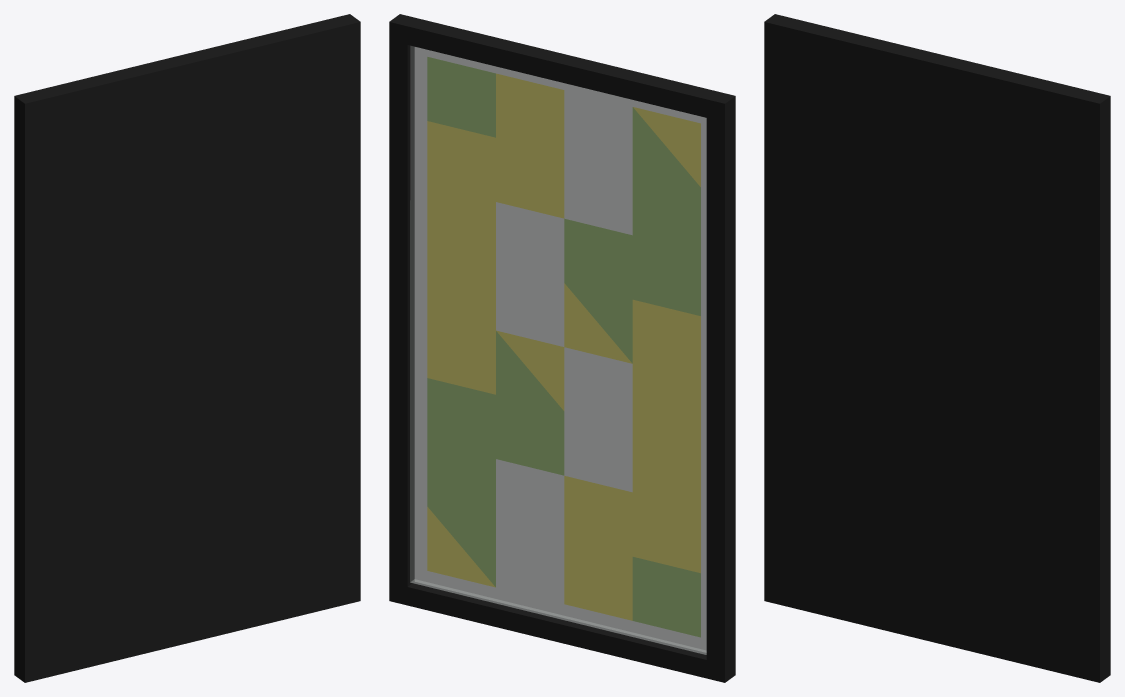
File: Painting2.fbx
3 views of the same model, side by side, from view 1: azimuth 30°, elevation 25°; view 2: azimuth 150°, elevation 25°; view 3: azimuth 330°, elevation 25° (orthographic).
Visible parts, largest first — view 1: model.002; view 2: model.002; view 3: model.002.
Boxes of the visible parts, left/top/right/bottom form: model.002: left=14, top=14, right=360, bottom=682; model.002: left=389, top=14, right=735, bottom=682; model.002: left=764, top=14, right=1110, bottom=682.
Bounding box in the file's own units: 54 × 89 × 3.
